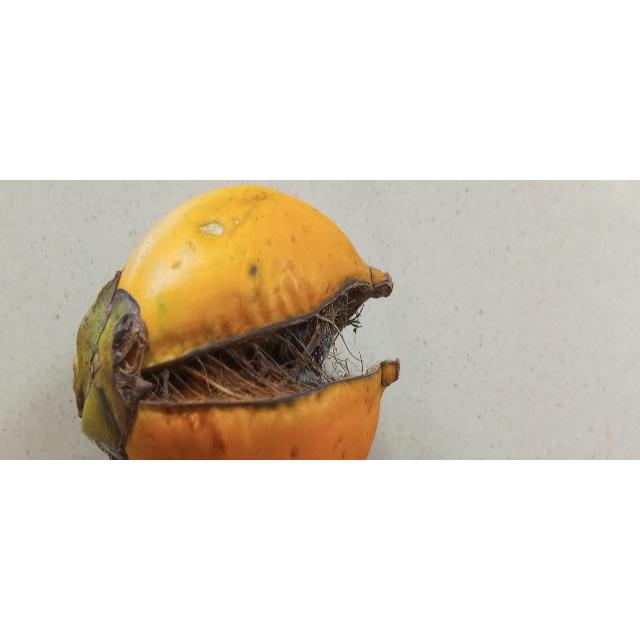damaged: (74, 185, 395, 461)
